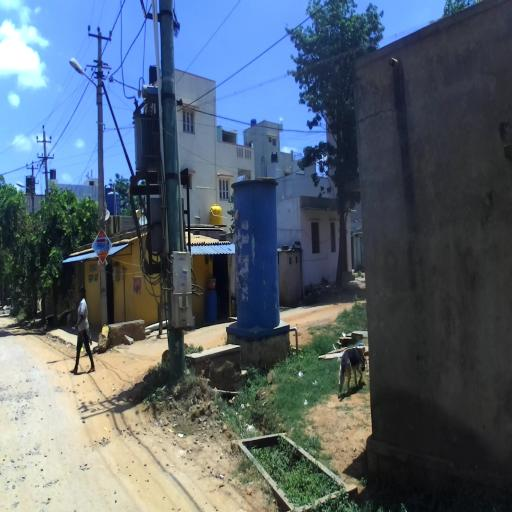street_light_0: (69, 58, 103, 106), (16, 182, 34, 200)
